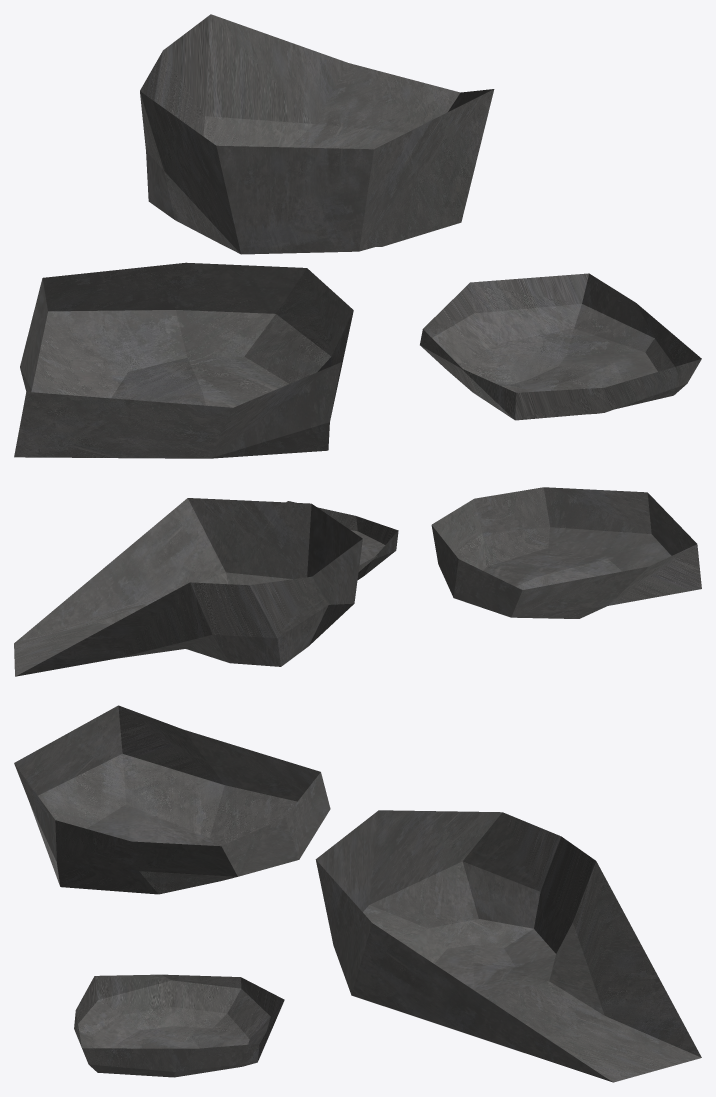
The model's file is rock_boundsflipped.glb.
3 renders of one model, top to bottom at view 1: azimuth 30°, elevation 25°; view 2: azimuth 150°, elevation 25°; view 3: azimuth 270°, elevation 25°, orthographic. The views are drawn at different scales.
Parts seen in each view (by area): view 1: Cube, Cube.003, Cube_01; view 2: Cube, Cube.003, Cube_01; view 3: Cube, Cube.003, Cube_01.
Boxes of the visible parts, left/top/right/bottom form: Cube: left=140, top=14, right=494, bottom=254; Cube.003: left=14, top=262, right=353, bottom=458; Cube_01: left=420, top=273, right=701, bottom=420; Cube: left=14, top=498, right=362, bottom=676; Cube.003: left=431, top=487, right=701, bottom=618; Cube_01: left=286, top=501, right=398, bottom=579; Cube: left=315, top=810, right=701, bottom=1082; Cube.003: left=14, top=705, right=330, bottom=894; Cube_01: left=74, top=974, right=284, bottom=1077.
Bounding box in the file's own units: 182 × 46.88 × 180.
Materials: 1 (1 with a texture image).
